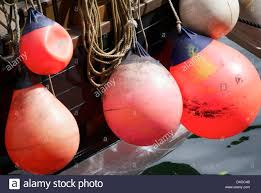buoy: (166, 40, 260, 143), (101, 63, 183, 146), (4, 88, 81, 175), (22, 24, 76, 78)
